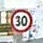limite 30: (9, 8, 33, 32)
